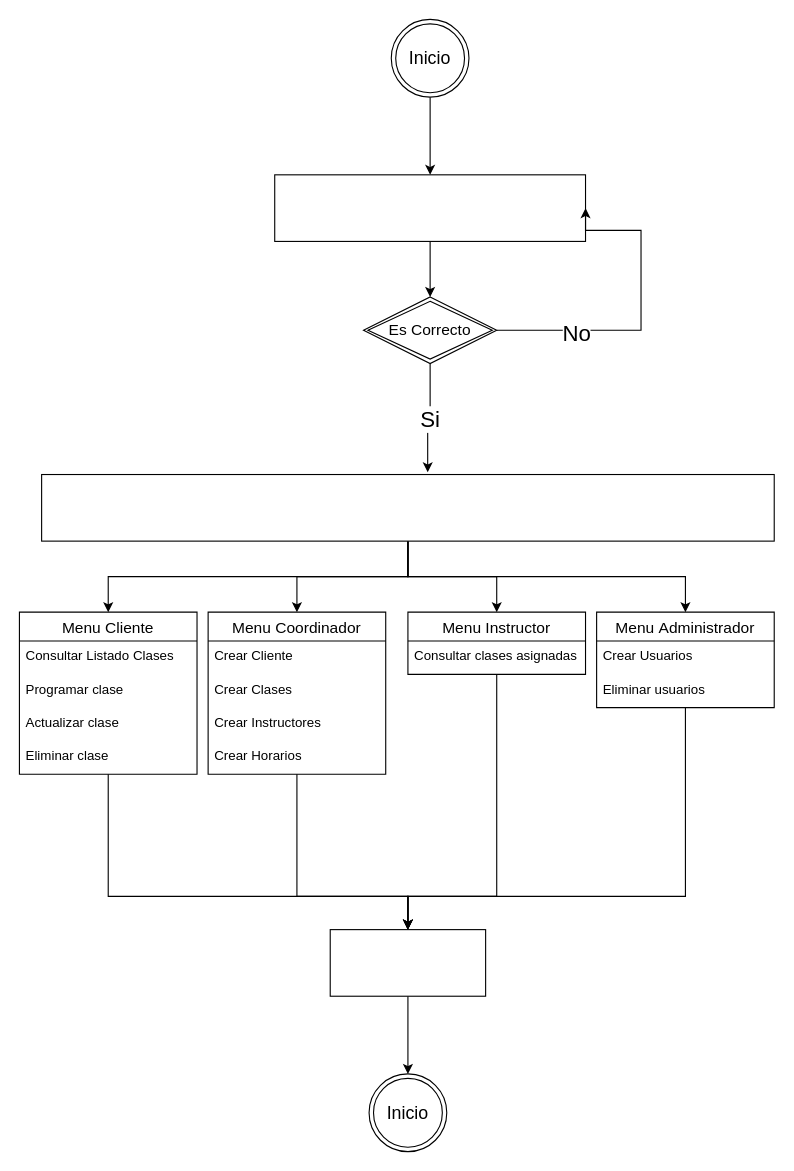
The diagram is 794 pixels wide and 1171 high, and some of its shapes have lost their labels. The centre of each missing label's shape, as x and y in pixels:
Cerrar Sesion: (x=407, y=962)
Inicio de sesion: (x=430, y=207)
Pagina de Inicio: (x=407, y=507)
